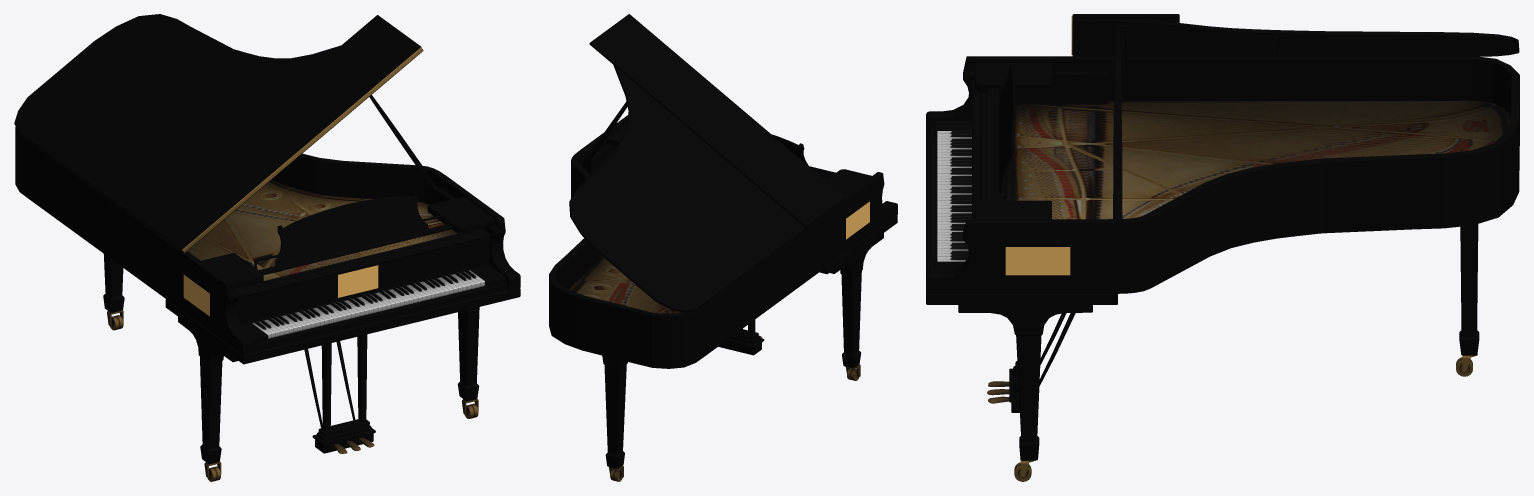
File: black_steinway_grand_piano.glb
The picture shows the model from 3 angles, left to right: view 1: azimuth 30°, elevation 25°; view 2: azimuth 150°, elevation 25°; view 3: azimuth 270°, elevation 25°; orthographic projection. The views are drawn at different scales.
Parts seen in each view (by area): view 1: steinwaygrand_b.mesh_2, steinwaygrand_b.2.mesh_0, steinwaygrand_b.3.mesh_1; view 2: steinwaygrand_b.mesh_2, steinwaygrand_b.2.mesh_0, steinwaygrand_b.3.mesh_1; view 3: steinwaygrand_b.mesh_2, steinwaygrand_b.2.mesh_0, steinwaygrand_b.3.mesh_1.
Part boxes in pixels (<box>): steinwaygrand_b.mesh_2: <box>14,14,520,464</box>; steinwaygrand_b.2.mesh_0: <box>107,47,484,481</box>; steinwaygrand_b.3.mesh_1: <box>183,265,378,316</box>; steinwaygrand_b.mesh_2: <box>549,14,897,468</box>; steinwaygrand_b.2.mesh_0: <box>568,256,860,481</box>; steinwaygrand_b.3.mesh_1: <box>846,201,869,239</box>; steinwaygrand_b.mesh_2: <box>926,14,1519,460</box>; steinwaygrand_b.2.mesh_0: <box>937,15,1510,481</box>; steinwaygrand_b.3.mesh_1: <box>1005,247,1070,275</box>.
Size of the model in its own units: 62.23 by 77.03 by 92.66.
Materials: 3 (2 with a texture image).
